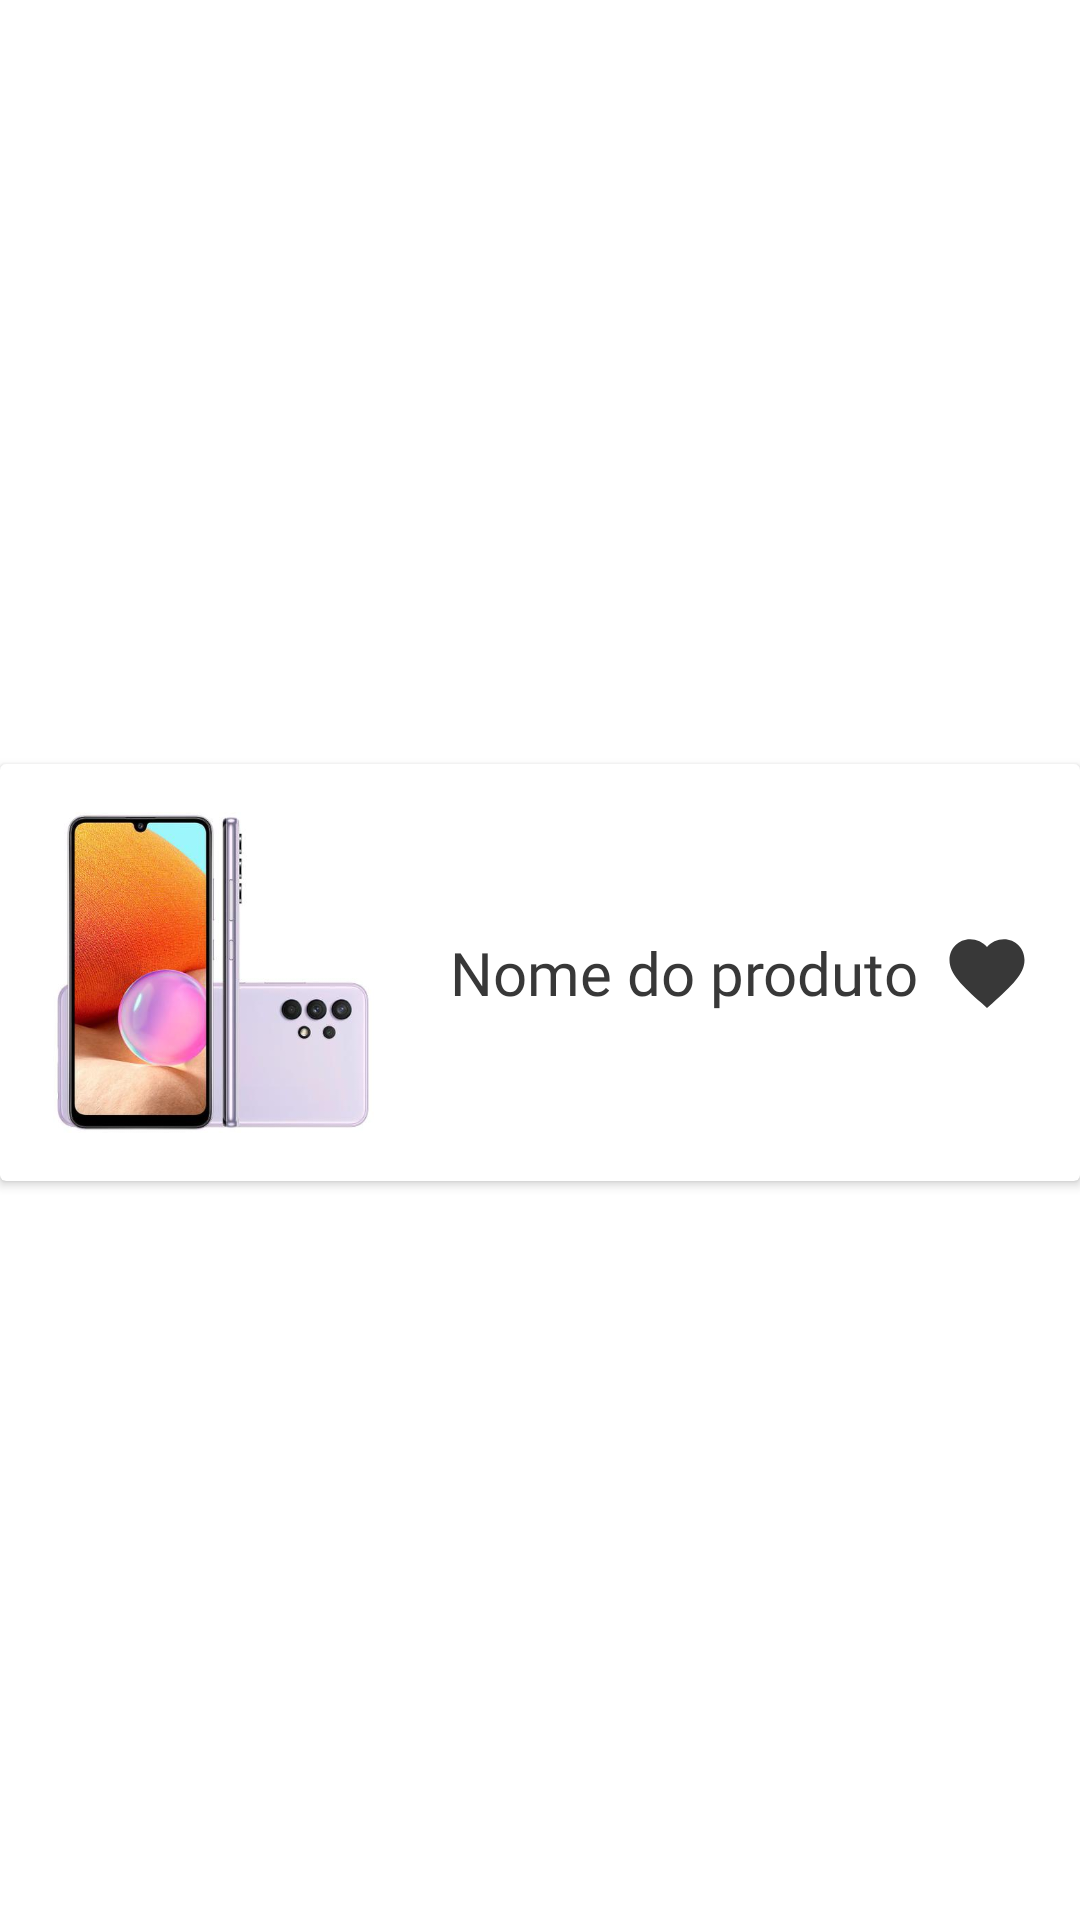

Where icons sit on this 1080x1920 app screen, as (x1, y1, x2, y2):
celular: (57, 815, 369, 1130)
favoritar: (949, 939, 1025, 1008)
